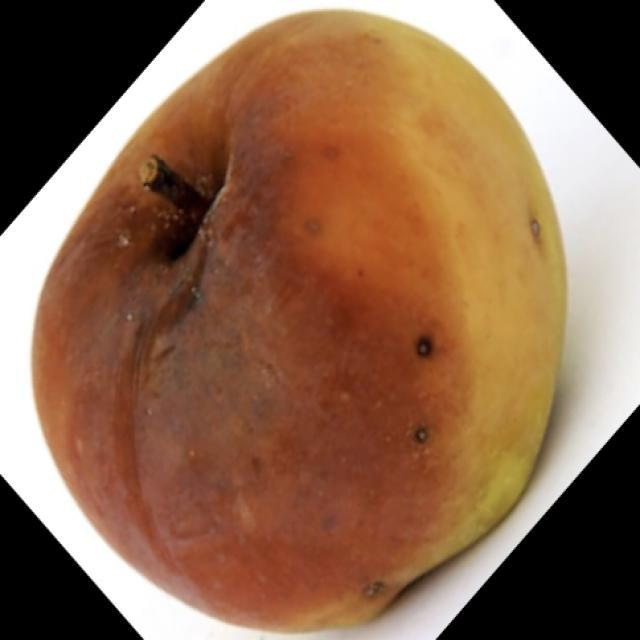Rotten: (55, 19, 578, 598)
